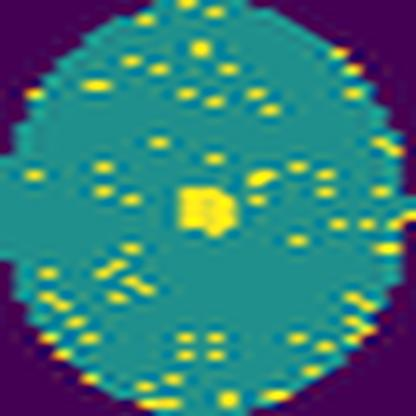Center: (174, 177, 240, 240)
